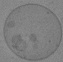small: (13, 35, 21, 45), (17, 41, 25, 50), (28, 33, 36, 42), (7, 21, 15, 28)
